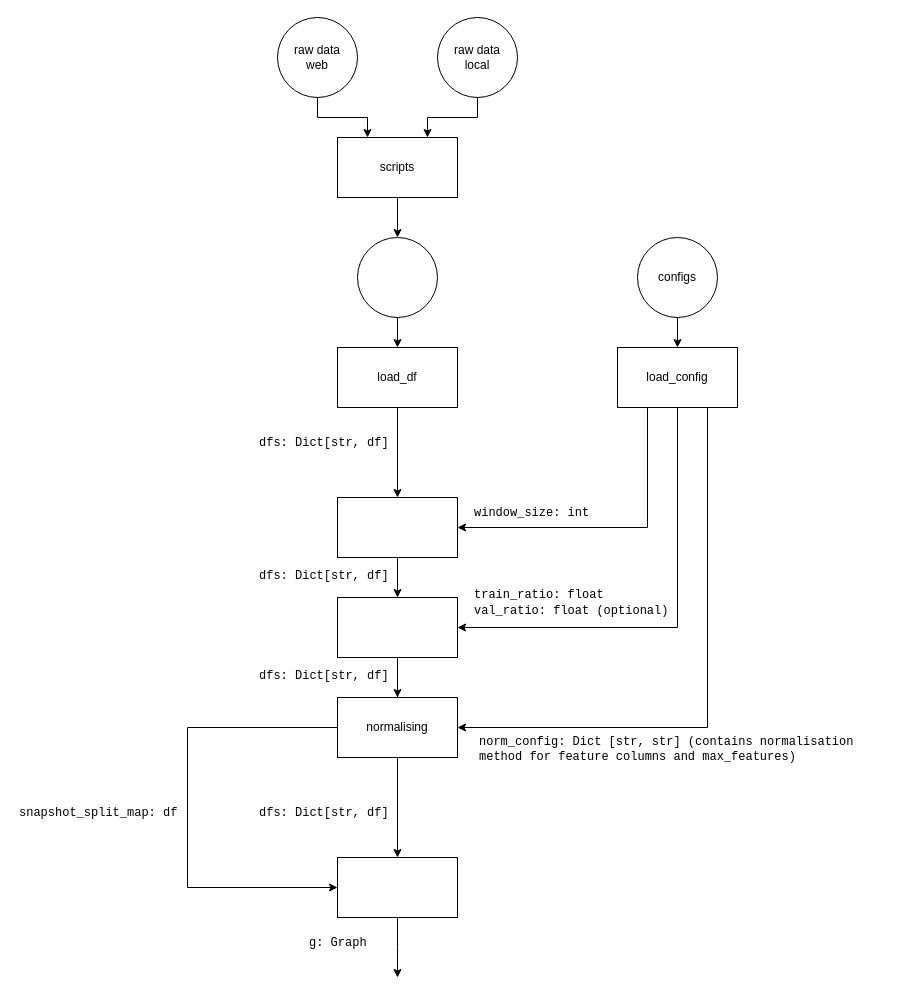
Some shapes in this 904 by 1003 pixel diagram are drawn without their labels. The centre of each missing label's shape, as x and y in pixels:
"graph_builder" belongs at point 397,887.
"parquet data" belongs at point 397,277.
"snapshotting" belongs at point 397,527.
"splitting" belongs at point 397,627.
